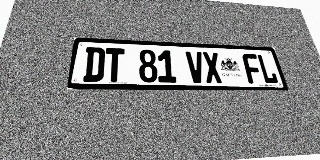1: (157, 50, 176, 83)
8: (139, 49, 158, 82)
D: (83, 47, 105, 82)
F: (242, 54, 264, 84)
L: (256, 54, 279, 84)
T: (104, 48, 124, 82)
V: (185, 51, 206, 83)
X: (202, 52, 223, 83)
